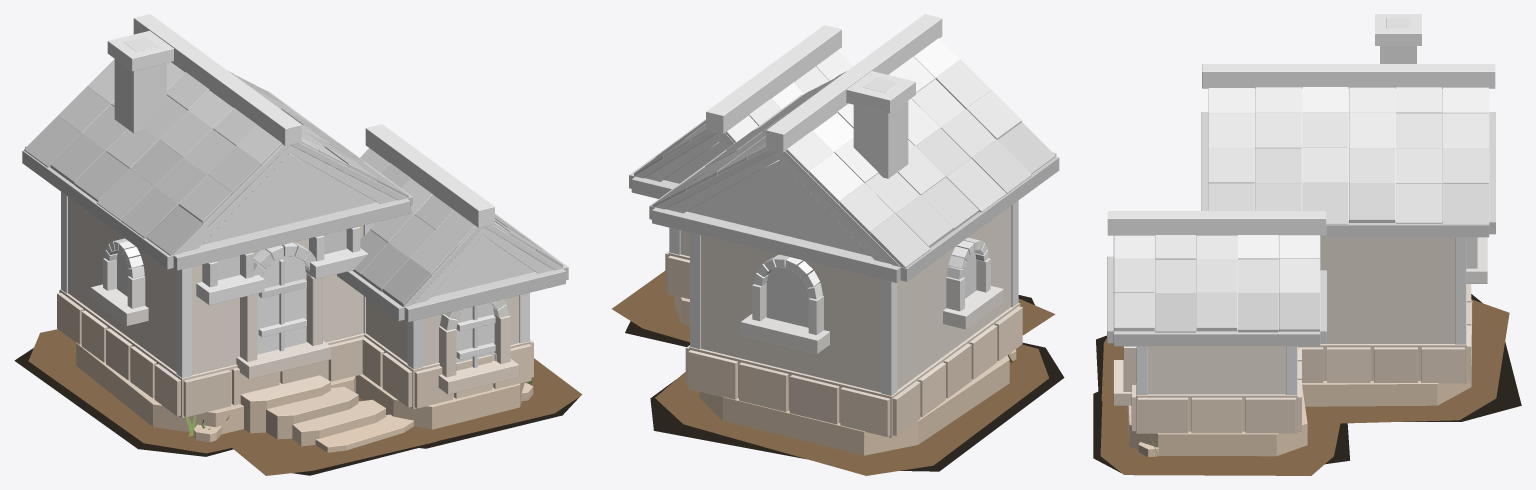
The model's file is village.fbx.
3 renders of one model, left to right at view 1: azimuth 30°, elevation 25°; view 2: azimuth 150°, elevation 25°; view 3: azimuth 270°, elevation 25°, orthographic. The views are drawn at different scales.
Parts seen in each view (by area): view 1: village.009; view 2: village.009; view 3: village.009.
Part boxes in pixels (x1,y1,x2,y2): village.009: (14, 14, 582, 475); village.009: (612, 14, 1064, 475); village.009: (1093, 14, 1521, 475).
Bounding box in the file's own units: 1.8 × 1.4 × 1.76.
